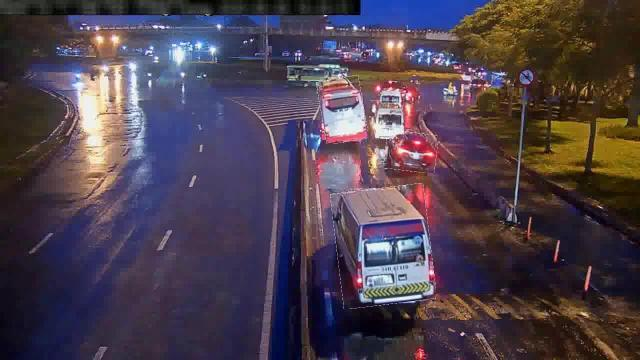Bus: (333, 185, 433, 307), (318, 77, 366, 143), (370, 100, 406, 139)
Car: (384, 132, 438, 172)
